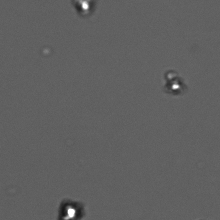Living Cell: (57, 199, 84, 218), (164, 76, 188, 95), (71, 1, 96, 17)
